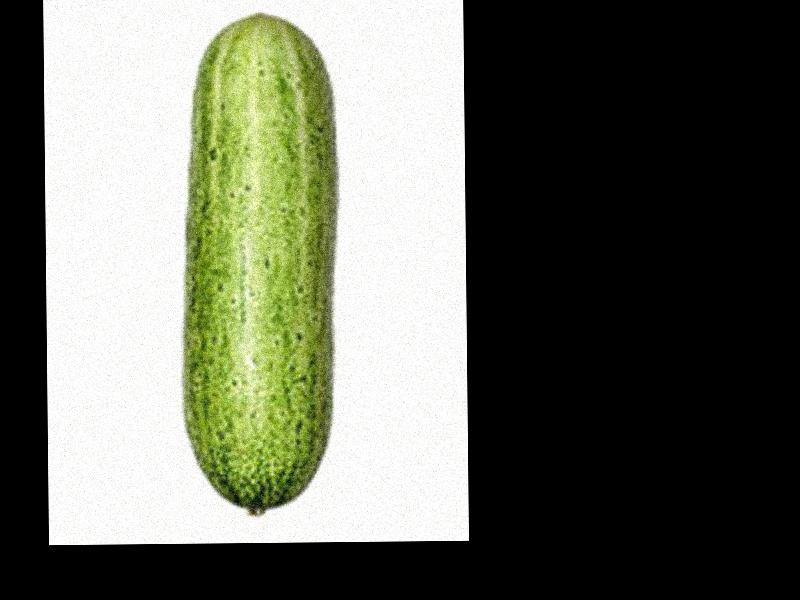Cucumber: (180, 12, 337, 516)
